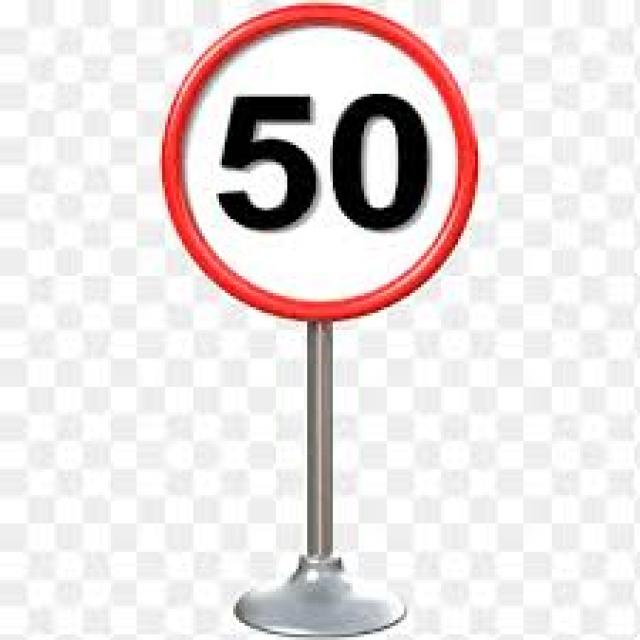Speed limit 50: (157, 1, 484, 325)
